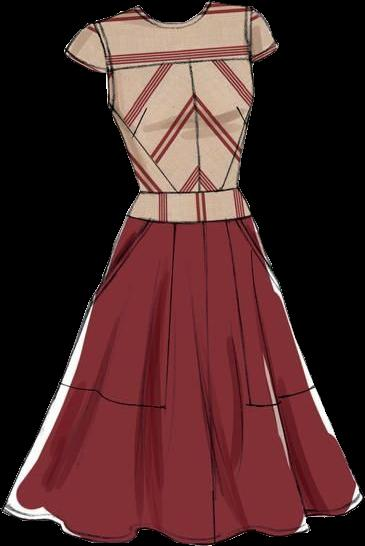Bodice: (95, 2, 254, 224)
Hemline: (1, 497, 364, 545)
Neckline: (134, 1, 211, 27), (138, 184, 241, 199)
Skirt: (1, 216, 361, 544)
Sleeve: (65, 23, 107, 72), (254, 8, 278, 61)
Sleeveline: (93, 20, 111, 74), (250, 7, 258, 60)
Waistline: (123, 210, 251, 229)
